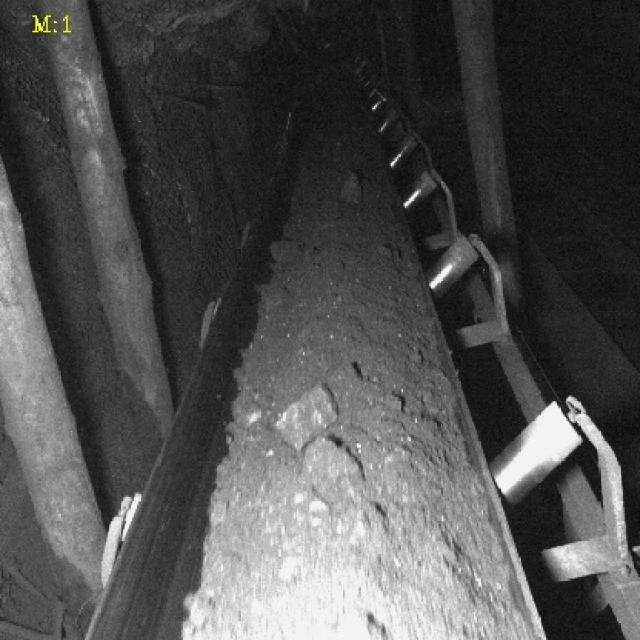large_sized_coal: (274, 383, 340, 446), (303, 436, 360, 486), (337, 171, 363, 211)
